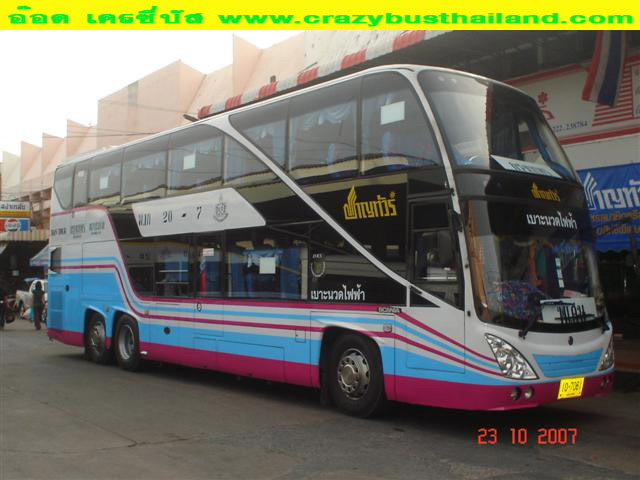bus: (45, 63, 617, 418)
